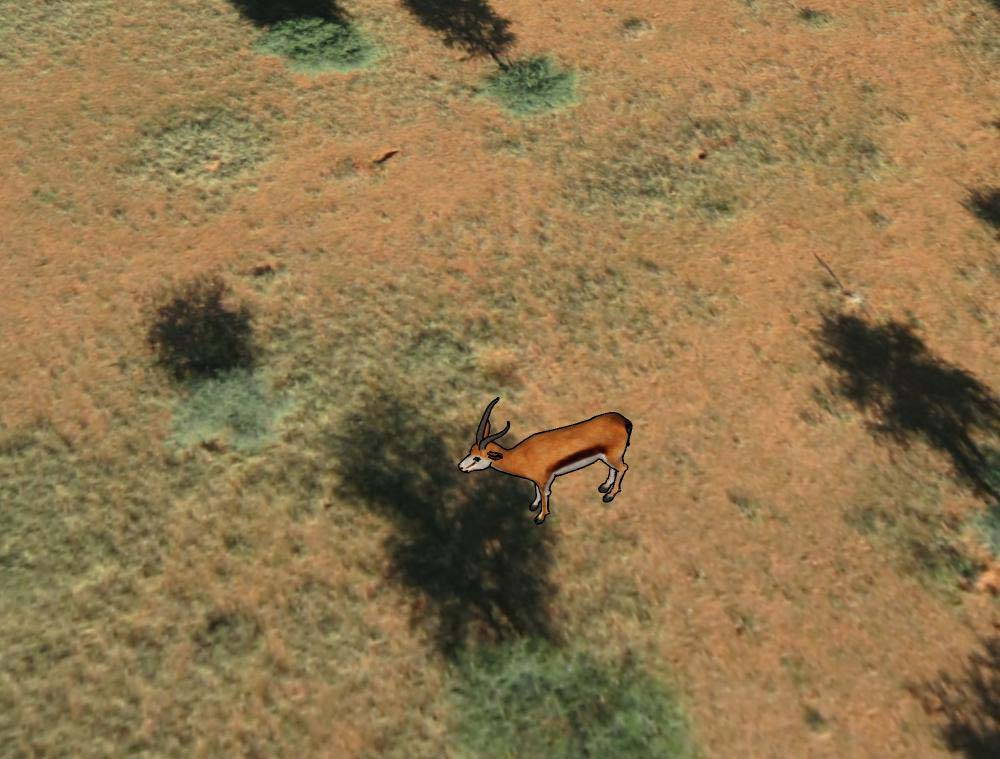springbok: (451, 392, 635, 527)
